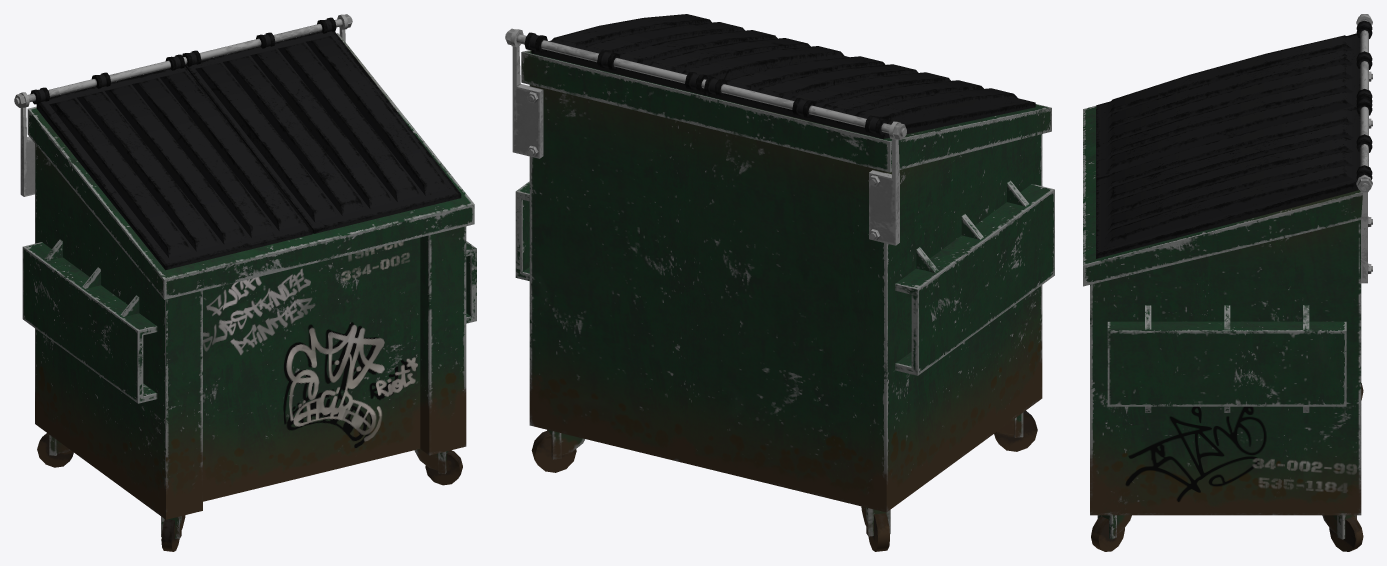
File: Basura.fbx
3 renders of one model, left to right at view 1: azimuth 30°, elevation 25°; view 2: azimuth 150°, elevation 25°; view 3: azimuth 270°, elevation 25°, orthographic. The views are drawn at different scales.
Visible parts, largest first — view 1: 4_low; view 2: 4_low; view 3: 4_low.
Part boxes in pixels (x1,y1,x2,y2): 4_low: (14, 14, 476, 551); 4_low: (505, 14, 1054, 551); 4_low: (1083, 14, 1372, 551).
Size of the model in its own units: 290 by 305 by 208.
